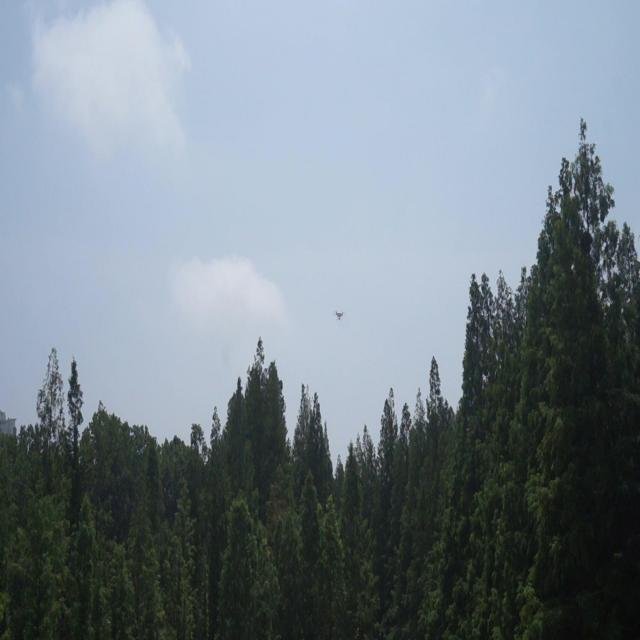UAV: (333, 310, 345, 321)
